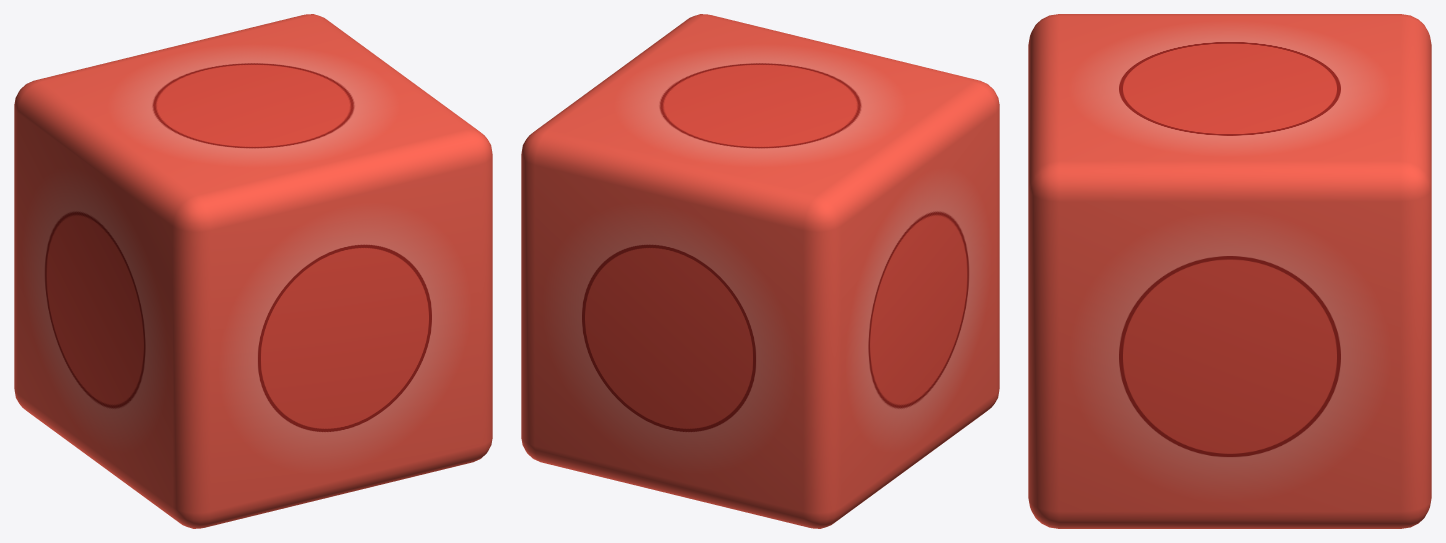
File: Red plastic box.fbx
The picture shows the model from 3 angles, left to right: view 1: azimuth 30°, elevation 25°; view 2: azimuth 150°, elevation 25°; view 3: azimuth 270°, elevation 25°; orthographic projection. The views are drawn at different scales.
Visible parts, largest first — view 1: Cube.003; view 2: Cube.003; view 3: Cube.003.
Part boxes in pixels (<box>): Cube.003: <box>14,14,492,528</box>; Cube.003: <box>521,14,999,528</box>; Cube.003: <box>1028,14,1431,528</box>.
Bounding box in the file's own units: 200 × 200 × 200.
1 material, 1 textured.
